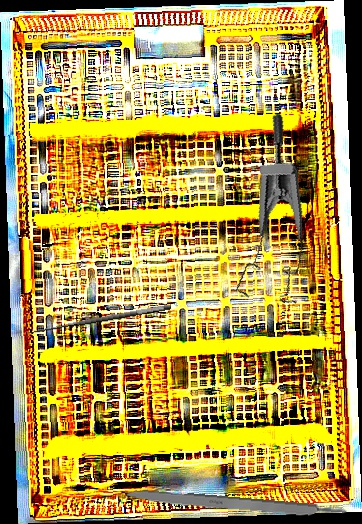Hook Surgical: (25, 302, 174, 347)
Scalpel Handle: (119, 487, 348, 522)
Speculum: (194, 111, 333, 318)
